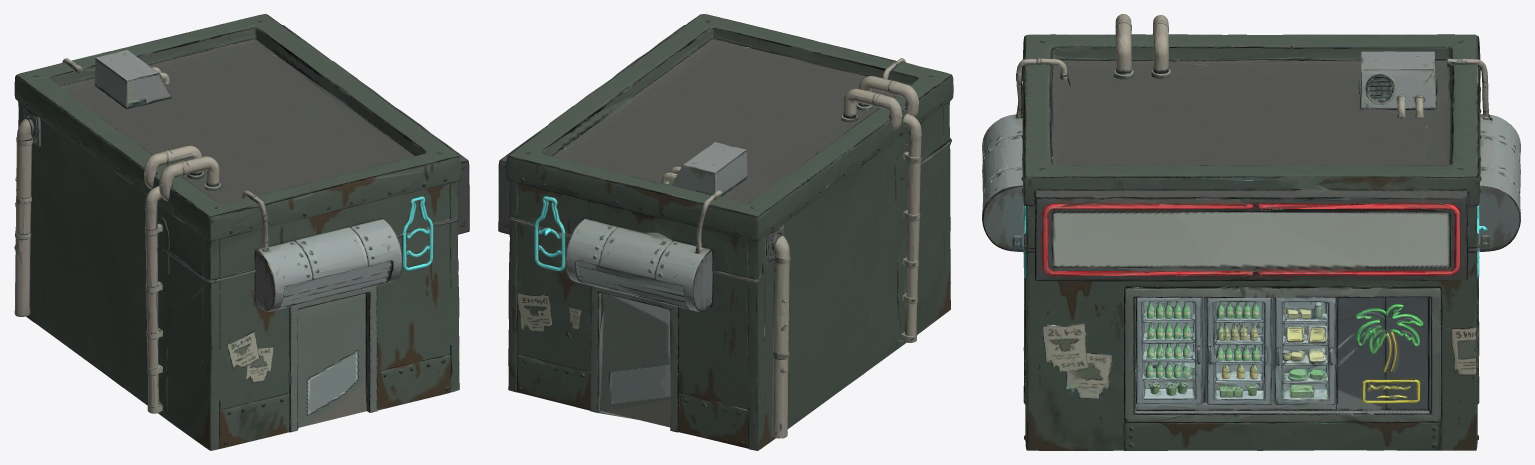
The model's file is mortymart.glb.
3 views of the same model, side by side, from view 1: azimuth 30°, elevation 25°; view 2: azimuth 150°, elevation 25°; view 3: azimuth 270°, elevation 25° (orthographic). The views are drawn at different scales.
Size of the model in its own units: 1.34 by 1.16 by 1.9.
1 material, 1 textured.
